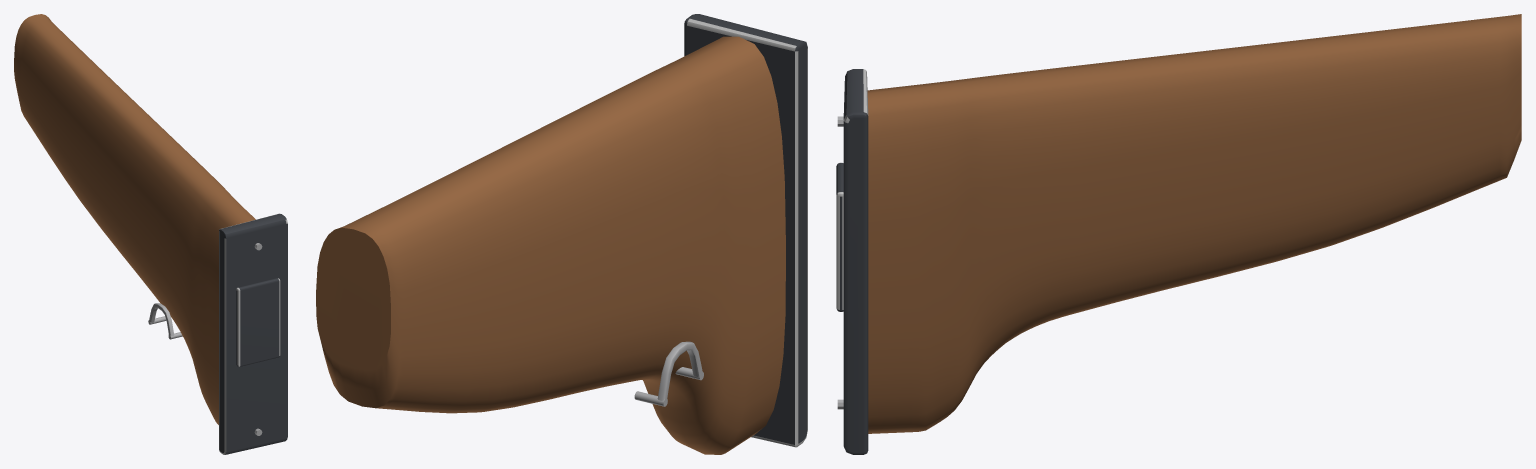
Rendered from stock_rpk74.glb.
The picture shows the model from 3 angles, left to right: view 1: azimuth 30°, elevation 25°; view 2: azimuth 150°, elevation 25°; view 3: azimuth 270°, elevation 25°; orthographic projection. The views are drawn at different scales.
Parts seen in each view (by area): view 1: static_butt.001; view 2: static_butt.001; view 3: static_butt.001.
Part boxes in pixels (x1=…): static_butt.001: x1=14, y1=14, x2=287, y2=454; static_butt.001: x1=316, y1=14, x2=807, y2=454; static_butt.001: x1=836, y1=14, x2=1521, y2=454.
Size of the model in its own units: 0.047 by 0.194 by 0.2898.
